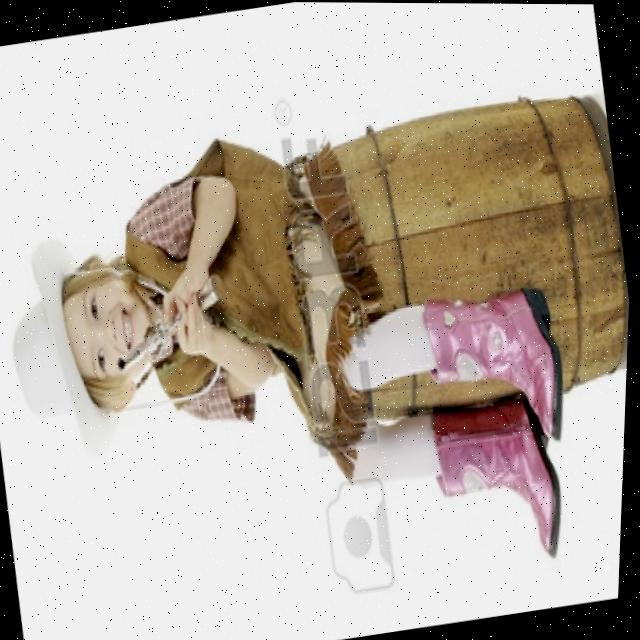pistol: (108, 302, 192, 373)
